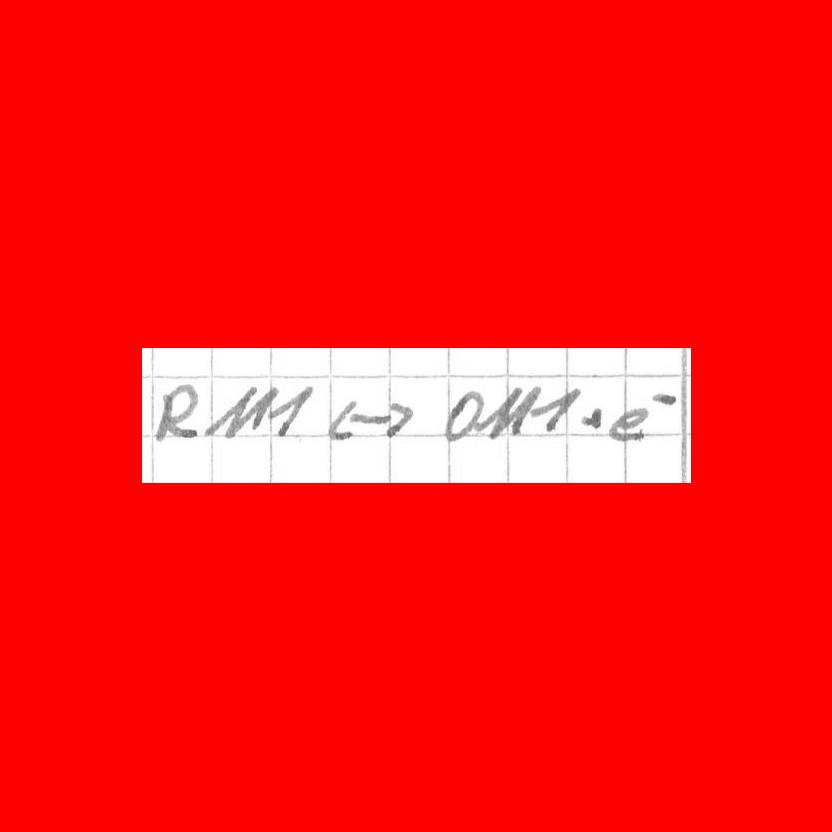Char: (322, 393, 416, 443), (208, 378, 277, 441), (480, 377, 540, 442), (153, 378, 206, 443), (441, 382, 488, 443), (269, 379, 318, 436), (534, 381, 580, 434), (608, 404, 648, 444), (580, 401, 609, 436), (650, 388, 678, 411)
